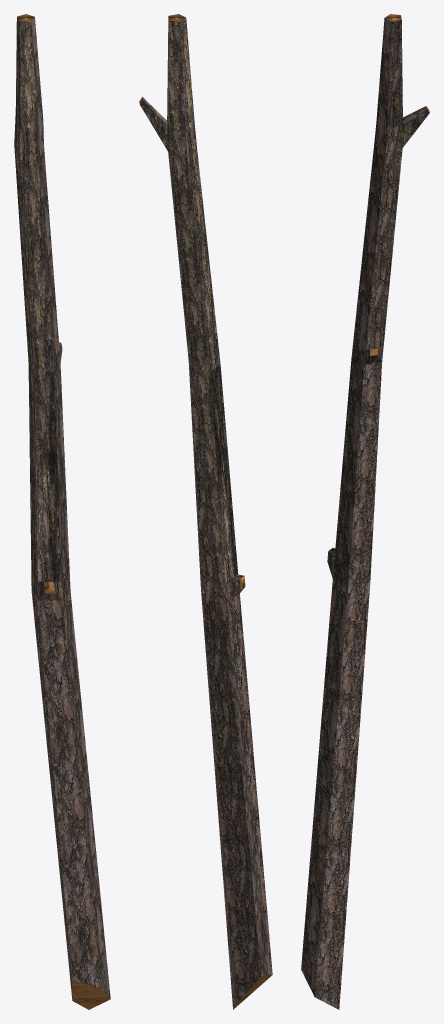
The model's file is stick_item_model.obj.
3 renders of one model, left to right at view 1: azimuth 90°, elevation 25°; view 2: azimuth 150°, elevation 25°; view 3: azimuth 330°, elevation 25°, orthographic. The views are drawn at different scales.
Parts seen in each view (by area): view 1: Cylinder.001; view 2: Cylinder.001; view 3: Cylinder.001.
Part boxes in pixels (<box>): Cylinder.001: <box>14,14,110,1009</box>; Cylinder.001: <box>139,14,272,1009</box>; Cylinder.001: <box>301,14,429,1009</box>.
Size of the model in its own units: 0.0999 by 0.9978 by 0.089.
